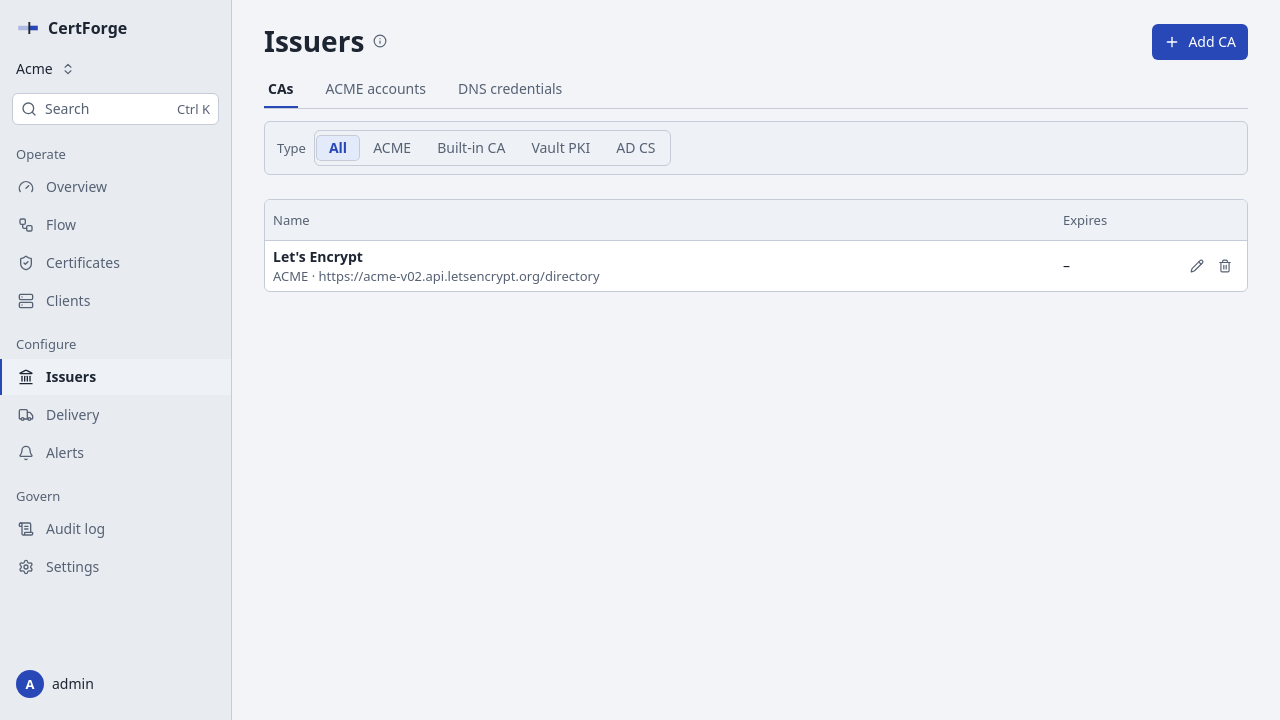
shows why a CA cannot be deleted
The width and height of the screenshot is (1280, 720).
Click the button named "Delete Let's Encrypt": (1225, 266) [1211,252,1239,280]
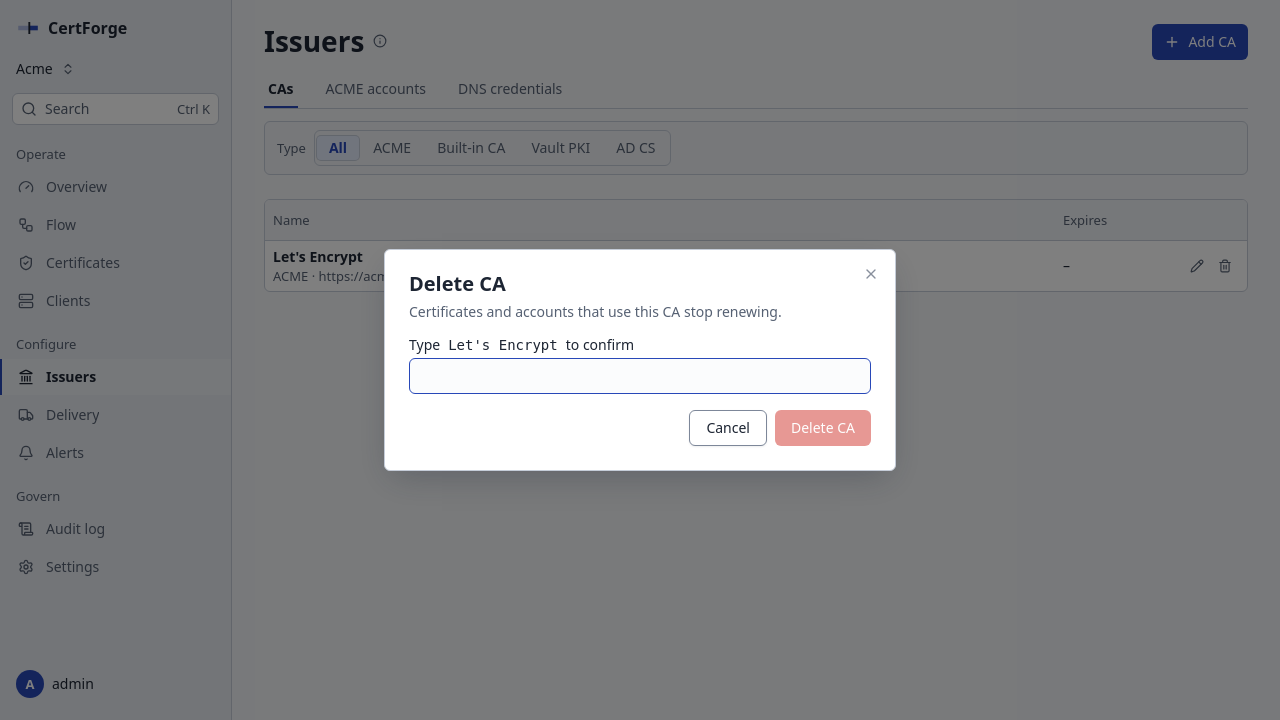
In the field: (640, 376) [409,358,871,394], type "Let's Encrypt"
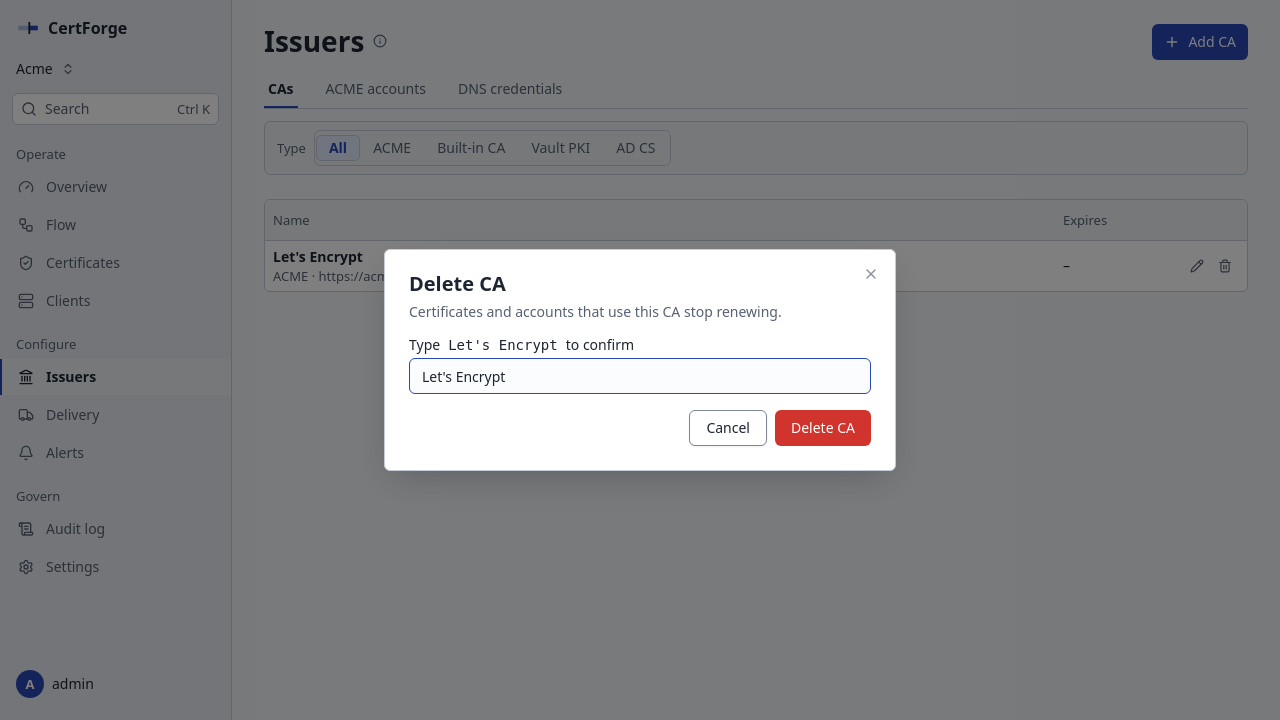
Click the button "Delete CA": (823, 428) [775,410,871,446]
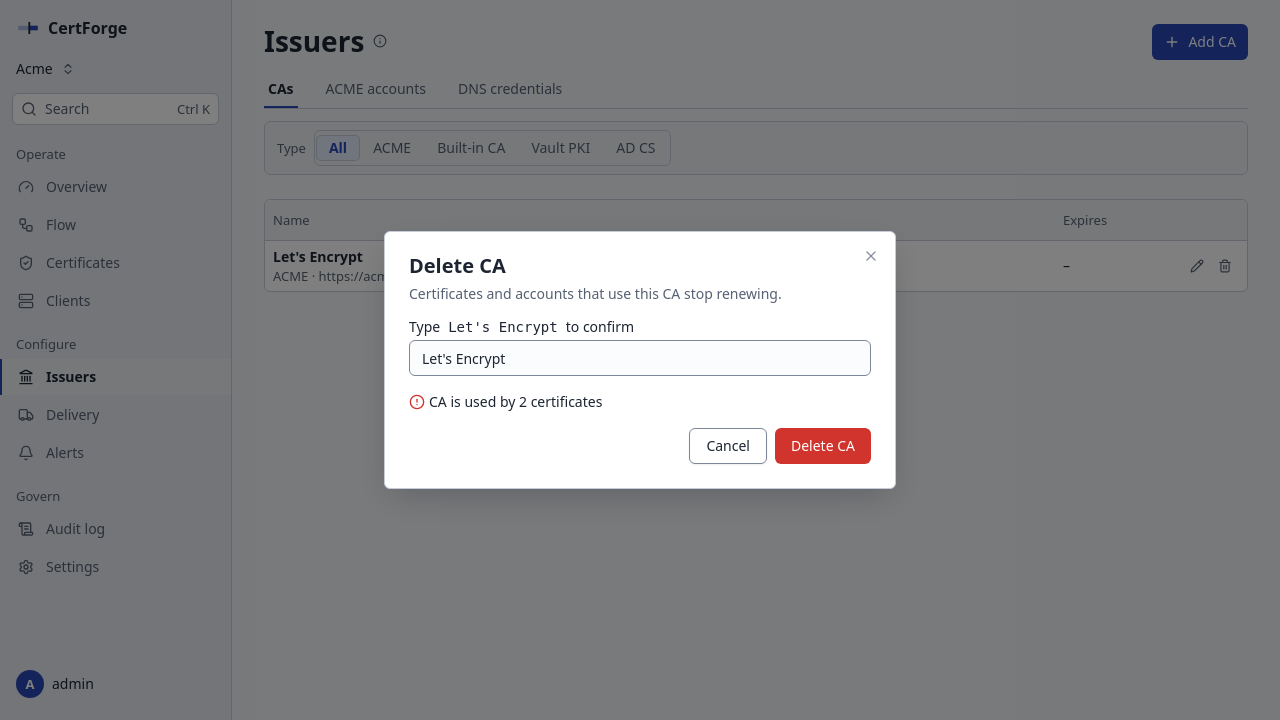
Now the message reads "CA is used by 2 certificates", box [429,392,602,411]
